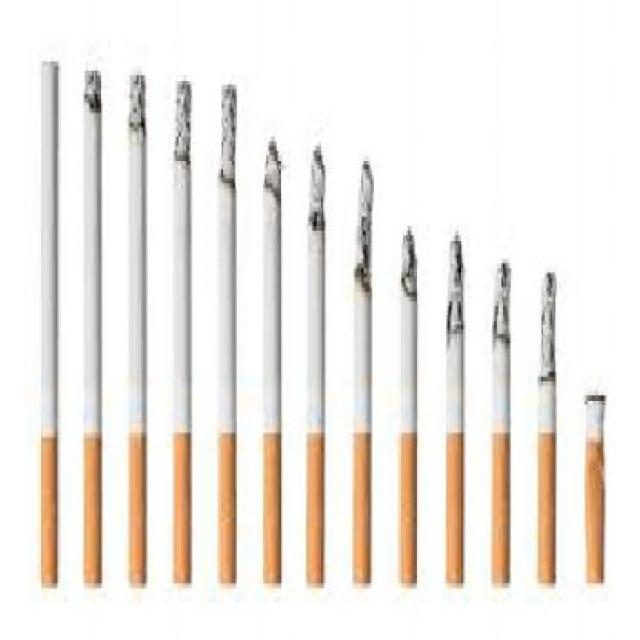cigarette: (26, 56, 71, 593), (165, 70, 201, 598), (341, 146, 379, 631), (76, 52, 107, 593), (119, 61, 150, 588), (215, 75, 242, 598), (439, 226, 475, 602), (489, 230, 525, 598), (259, 122, 287, 588), (299, 160, 330, 560), (389, 211, 418, 607), (577, 386, 625, 597), (538, 288, 562, 583)
